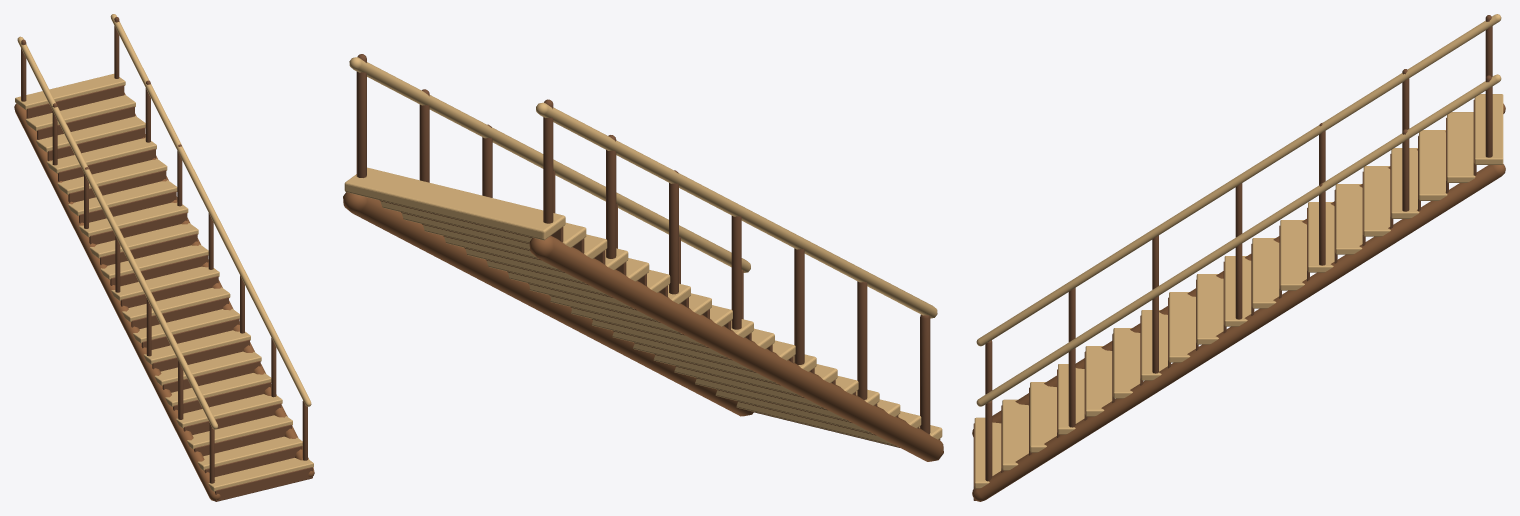
Rendered from stairs.glb.
3 views of the same model, side by side, from view 1: azimuth 30°, elevation 25°; view 2: azimuth 150°, elevation 25°; view 3: azimuth 270°, elevation 25° (orthographic). The views are drawn at different scales.
Visible parts, largest first — view 1: Structural_stringer, Continuous_hand_rail.001, Continuous_hand_rail, Wood_tread.018, Wood_tread, Wood_tread.017, Wood_tread.015, Wood_tread.012, Wood_tread.014, Wood_tread.002, Wood_tread.016, Wood_tread.001 (+32 smaller); view 2: Structural_stringer, Structural_stringer.001, Wood_tread.018, Continuous_hand_rail, Continuous_hand_rail.001, Wood_tread.017, Wood_tread.016, Rail_post, Rail_post.002, Rail_post.004, Wood_tread.001, Wood_tread.002 (+21 smaller); view 3: Structural_stringer.001, Continuous_hand_rail, Continuous_hand_rail.001, Wood_tread.014, Wood_tread.013, Wood_tread.017, Wood_tread.016, Wood_tread.010, Wood_tread.008, Wood_tread.011, Wood_tread.005, Wood_tread.004 (+16 smaller).
Boxes of the visible parts, left/top/right/bottom form: Structural_stringer: left=14, top=103, right=220, bottom=501; Continuous_hand_rail.001: left=110, top=14, right=311, bottom=406; Continuous_hand_rail: left=17, top=36, right=218, bottom=429; Wood_tread.018: left=15, top=74, right=125, bottom=109; Wood_tread: left=208, top=458, right=313, bottom=491; Wood_tread.017: left=25, top=95, right=135, bottom=131; Wood_tread.015: left=46, top=137, right=156, bottom=173; Wood_tread.012: left=79, top=202, right=188, bottom=237; Wood_tread.014: left=57, top=158, right=167, bottom=194; Wood_tread.002: left=187, top=415, right=292, bottom=449; Wood_tread.016: left=36, top=116, right=145, bottom=152; Wood_tread.001: left=197, top=436, right=302, bottom=470; Structural_stringer: left=529, top=236, right=943, bottom=461; Structural_stringer.001: left=343, top=192, right=753, bottom=416; Wood_tread.018: left=344, top=167, right=565, bottom=240; Continuous_hand_rail: left=536, top=102, right=937, bottom=318; Continuous_hand_rail.001: left=349, top=57, right=750, bottom=272; Wood_tread.017: left=380, top=201, right=586, bottom=247; Wood_tread.016: left=401, top=213, right=607, bottom=258; Rail_post: left=920, top=314, right=930, bottom=434; Rail_post.002: left=857, top=281, right=867, bottom=399; Rail_post.004: left=794, top=248, right=804, bottom=364; Wood_tread.001: left=715, top=390, right=921, bottom=434; Wood_tread.002: left=695, top=378, right=900, bottom=421; Structural_stringer.001: left=972, top=164, right=1505, bottom=501; Continuous_hand_rail: left=976, top=14, right=1501, bottom=346; Continuous_hand_rail.001: left=976, top=74, right=1501, bottom=406; Wood_tread.014: left=1363, top=166, right=1390, bottom=236; Wood_tread.013: left=1335, top=184, right=1362, bottom=254; Wood_tread.017: left=1447, top=112, right=1475, bottom=182; Wood_tread.016: left=1419, top=130, right=1447, bottom=200; Wood_tread.010: left=1252, top=238, right=1279, bottom=308; Wood_tread.008: left=1196, top=274, right=1223, bottom=344; Wood_tread.011: left=1280, top=220, right=1306, bottom=290; Wood_tread.005: left=1113, top=328, right=1140, bottom=398; Wood_tread.004: left=1085, top=346, right=1112, bottom=416.
Size of the model in its own units: 1.62 by 4.74 by 5.38.
